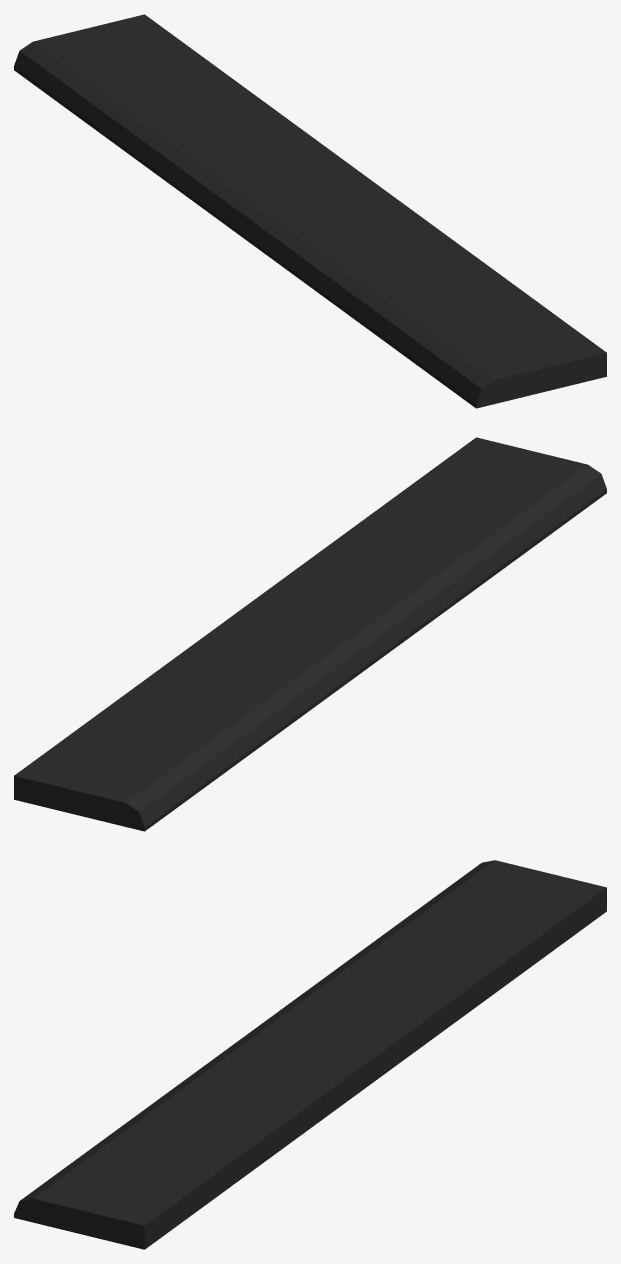
The model's file is Shelf_3.fbx.
3 views of the same model, one above another, from view 1: azimuth 30°, elevation 25°; view 2: azimuth 150°, elevation 25°; view 3: azimuth 330°, elevation 25° (orthographic).
Parts seen in each view (by area): view 1: Shelf_3; view 2: Shelf_3; view 3: Shelf_3.
Part boxes in pixels (box(x1,y1,x2,y2)): Shelf_3: box(14, 14, 606, 408); Shelf_3: box(14, 437, 606, 831); Shelf_3: box(14, 860, 606, 1249).
Bounding box in the file's own units: 0.304 × 0.0533 × 1.86.
